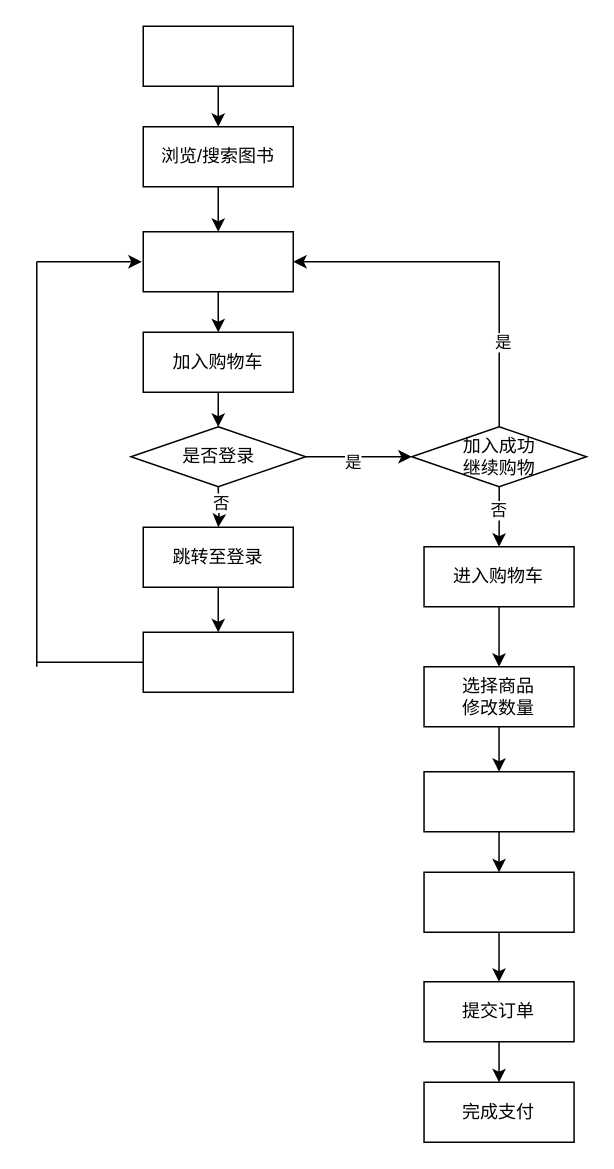
Some shapes in this 614 by 1169 pixel diagram are drawn without their labels. Here are the shapes that lost their labels. From the top down, the centre of each, then its label:
At pixel 217 55: "首页".
At pixel 217 261: "查看图书详细".
At pixel 217 661: "用户登录".
At pixel 498 801: "点击结算".
At pixel 498 901: "确认订单信息".
